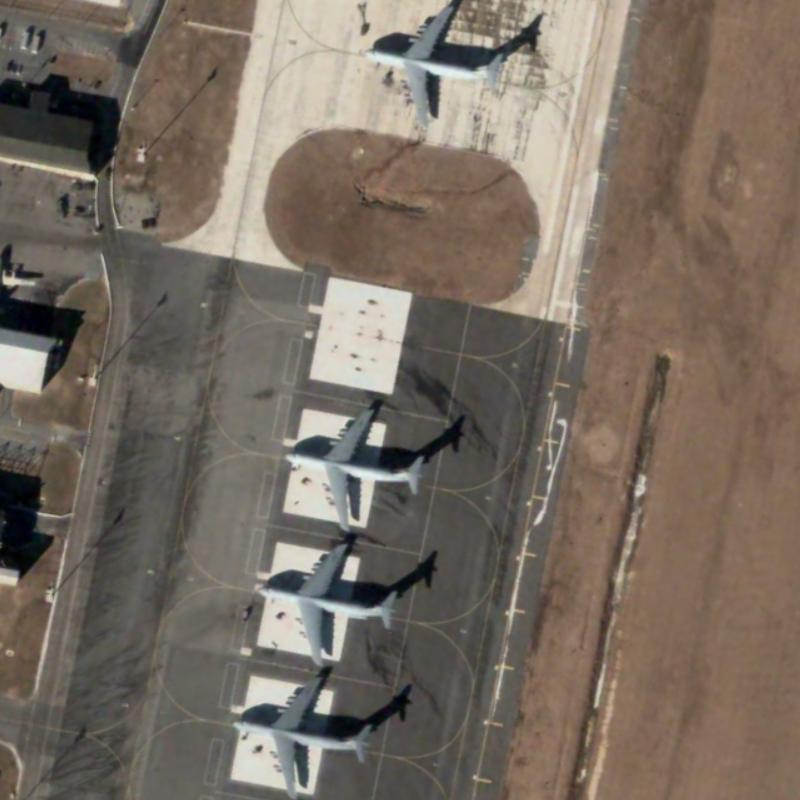A4: (276, 393, 431, 539), (355, 0, 509, 137), (223, 665, 378, 799), (249, 536, 399, 669)
